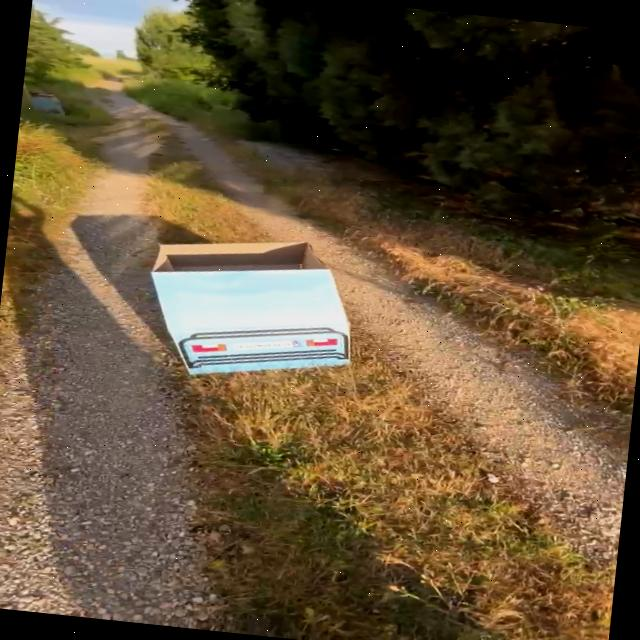blue_car: (98, 209, 386, 424)
